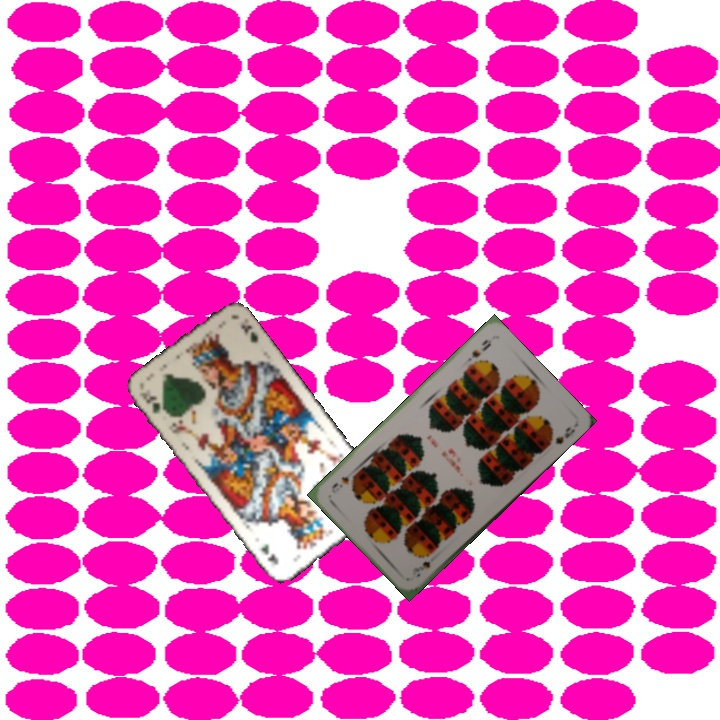GK: (135, 388, 170, 417)
S9: (467, 335, 494, 361), (408, 557, 433, 580)
